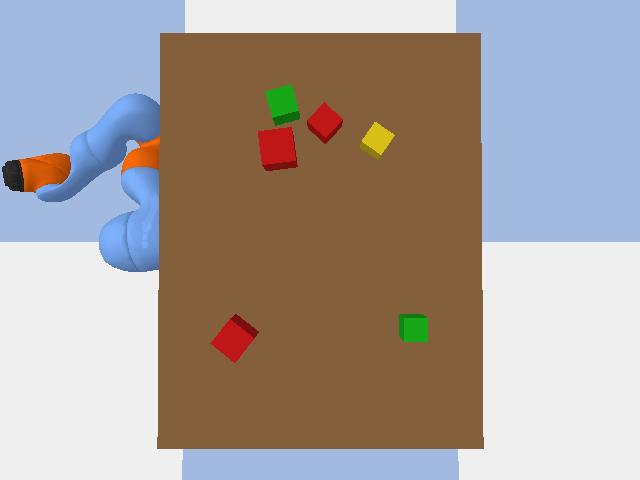green_obj: (265, 84, 299, 125), (399, 314, 427, 341)
red_obj: (210, 314, 258, 362), (258, 127, 297, 170), (307, 102, 342, 143)
yellow_obj: (359, 122, 394, 159)
